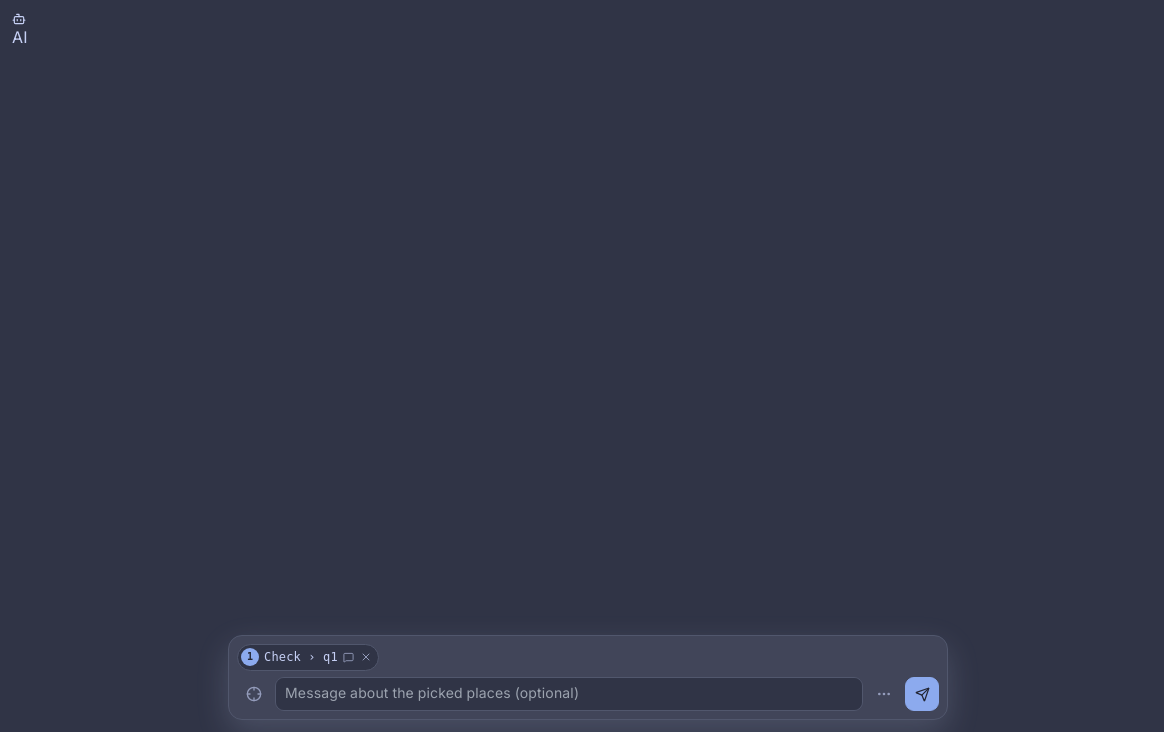
Scenario: Thinking (decision 128) › shows the reasoning in the activity pill, apart from the answer, and does not send it back
The width and height of the screenshot is (1164, 732).
Click the button with test id "pick-send" at [922, 694], box [905,677,939,711]
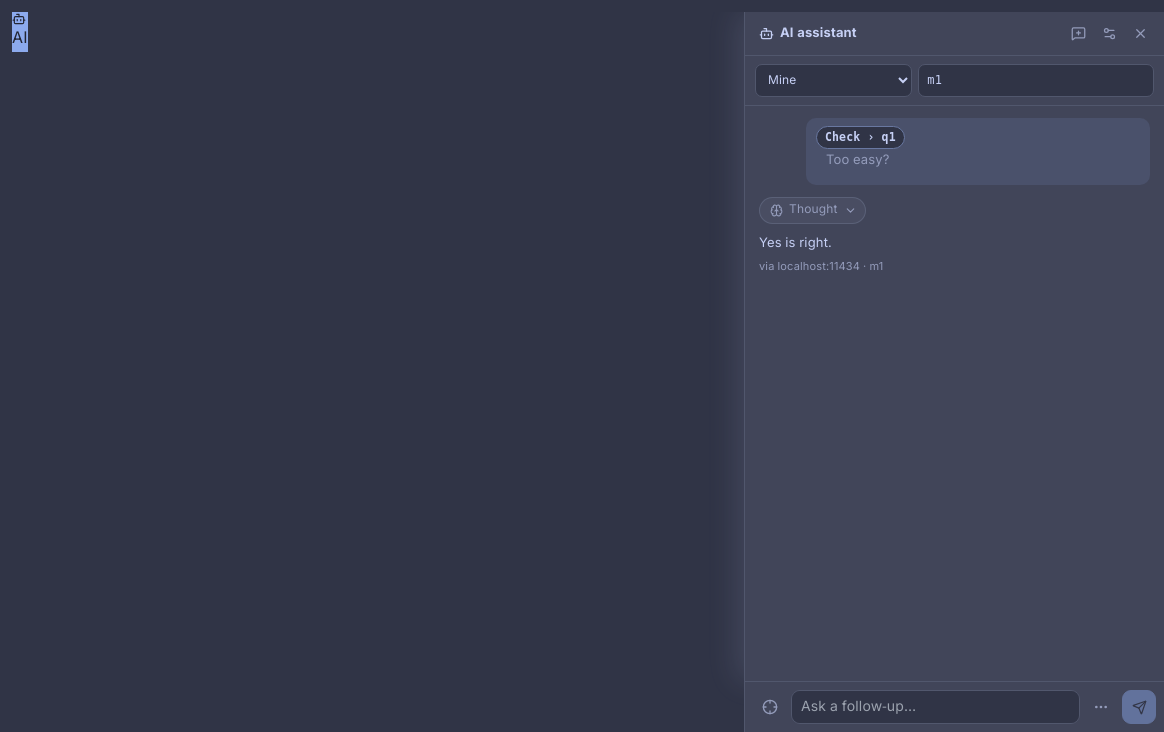
Expected: the element with test id "ai-reply" does not show "The learner asks", [759,197,883,276]
Expected: the element with test id "ai-reply" shows "Yes is right.", [759,233,832,254]
Expected: the button with test id "ai-activity-toggle" reads "Thought"
Click the button with test id "ai-activity-toggle" at [812, 211], box [759,197,866,224]
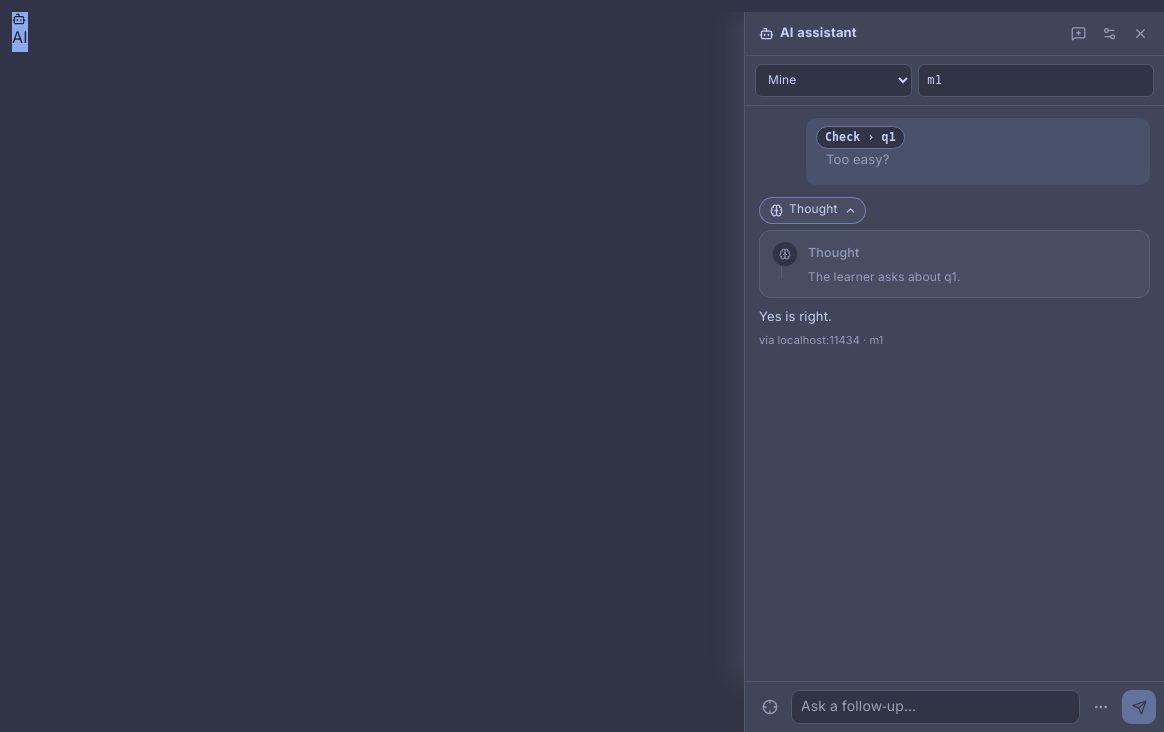
Expected: the text with test id "ai-thought" reads "The learner asks about q1.", [808,268,960,287]
// A follow-up does not carry the thinking.
Type "Thanks" into the text box with test id "pick-composer" at [936, 707], box [791,690,1080,724]
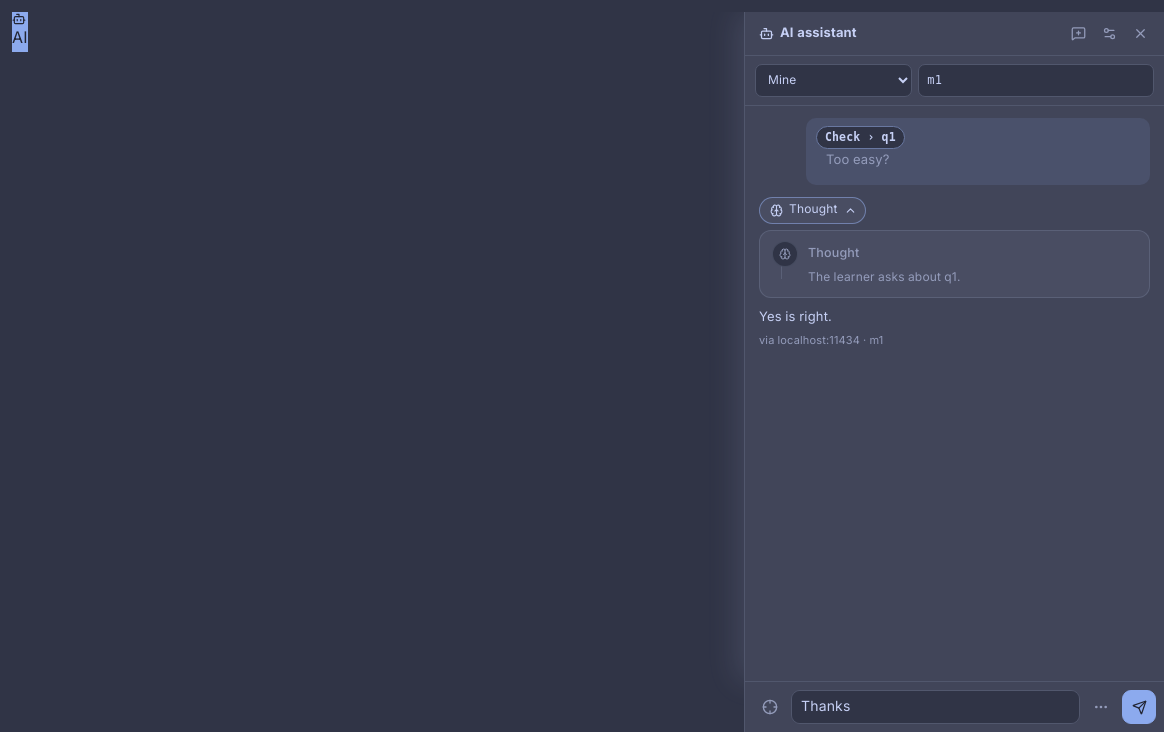
Press Enter in the text box with test id "pick-composer", box [791,690,1080,724]
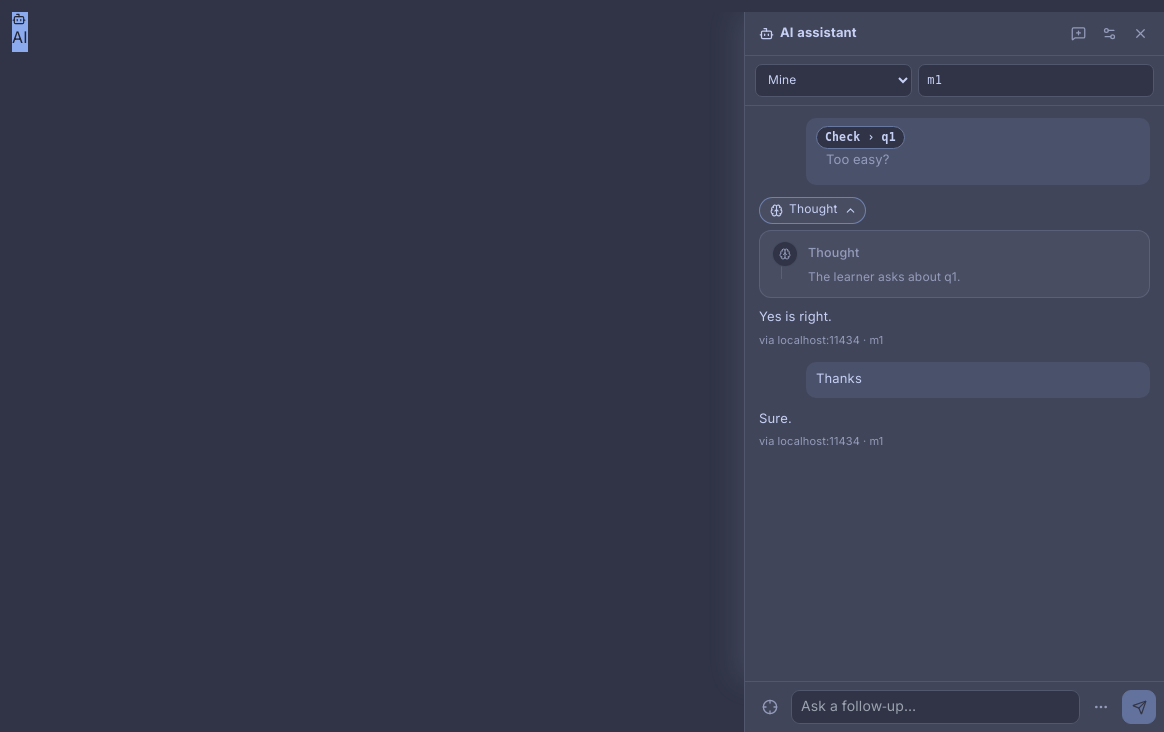
Expected: the number of elements with test id "ai-reply" is 2, [759,197,1150,350]; [759,409,883,451]
